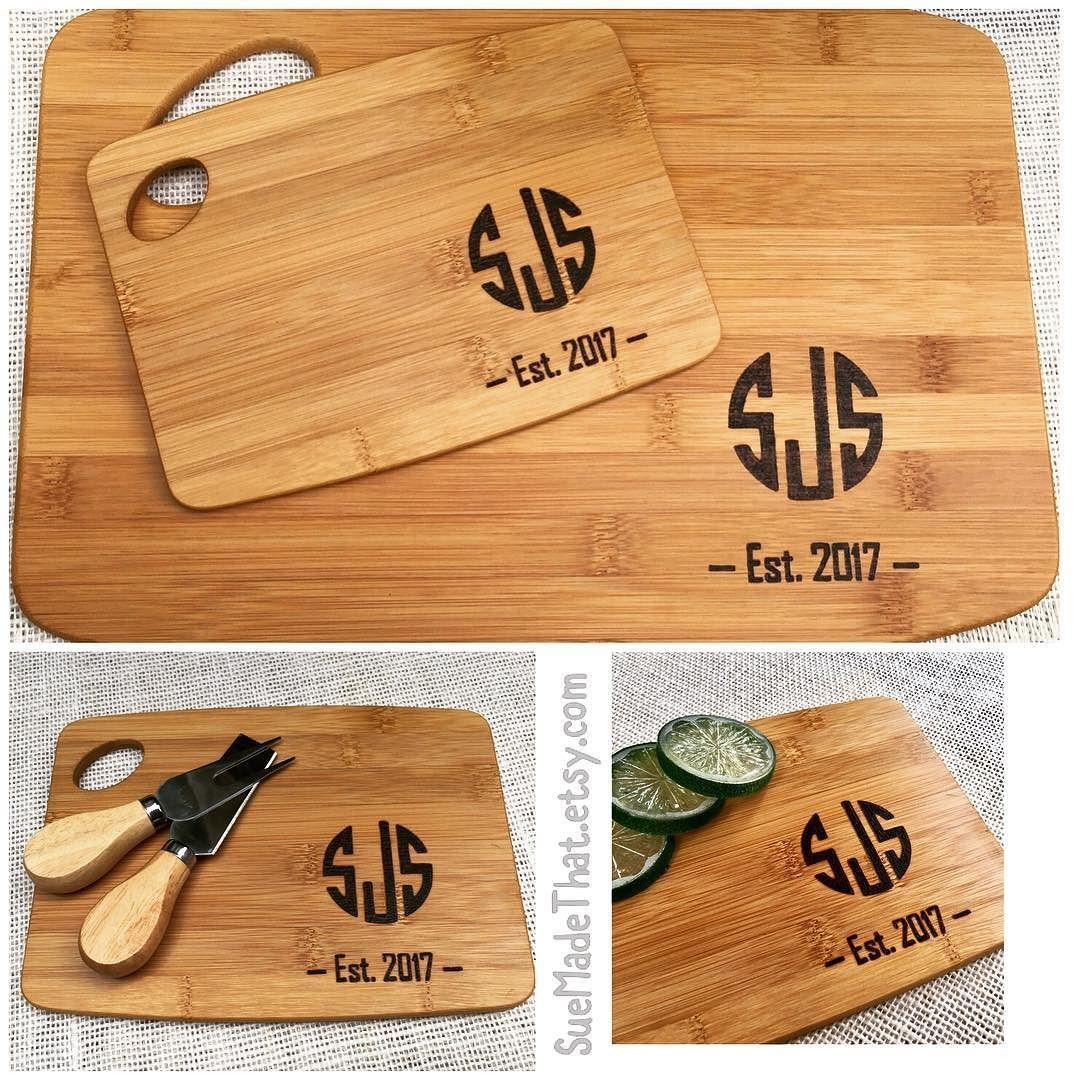gloved_hand: (68, 10, 727, 517)
